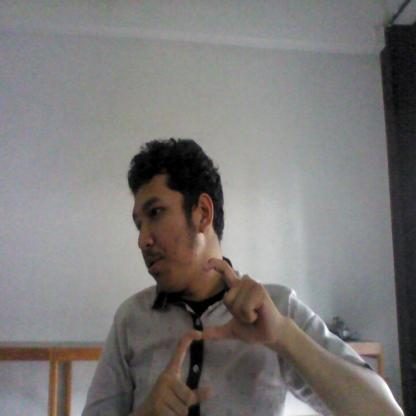S: (144, 240, 282, 414)
